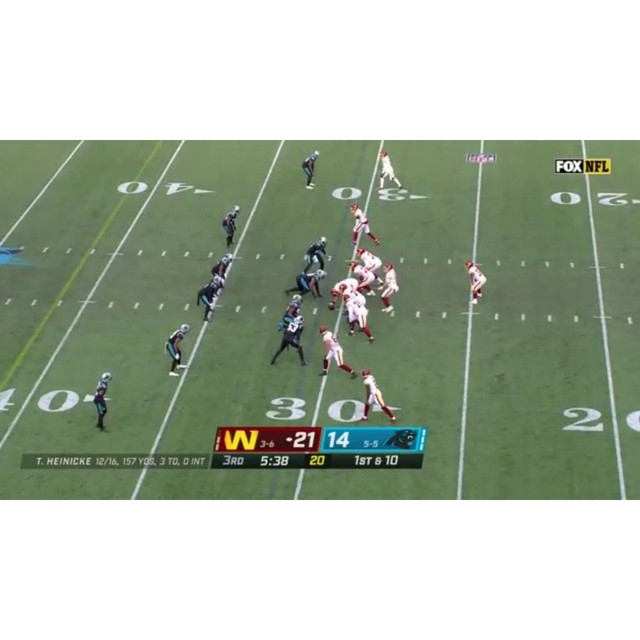american-football-player: (269, 314, 308, 367), (319, 325, 356, 380), (360, 368, 396, 423), (342, 295, 375, 344), (197, 274, 226, 323), (165, 324, 191, 377), (350, 202, 380, 247), (285, 269, 327, 300), (91, 371, 112, 431), (328, 276, 361, 311), (379, 262, 400, 315), (276, 293, 304, 332), (377, 151, 403, 190), (349, 261, 377, 297), (465, 260, 487, 304), (303, 236, 328, 274), (356, 248, 383, 280), (221, 206, 240, 248), (301, 150, 320, 189), (211, 253, 234, 281)
